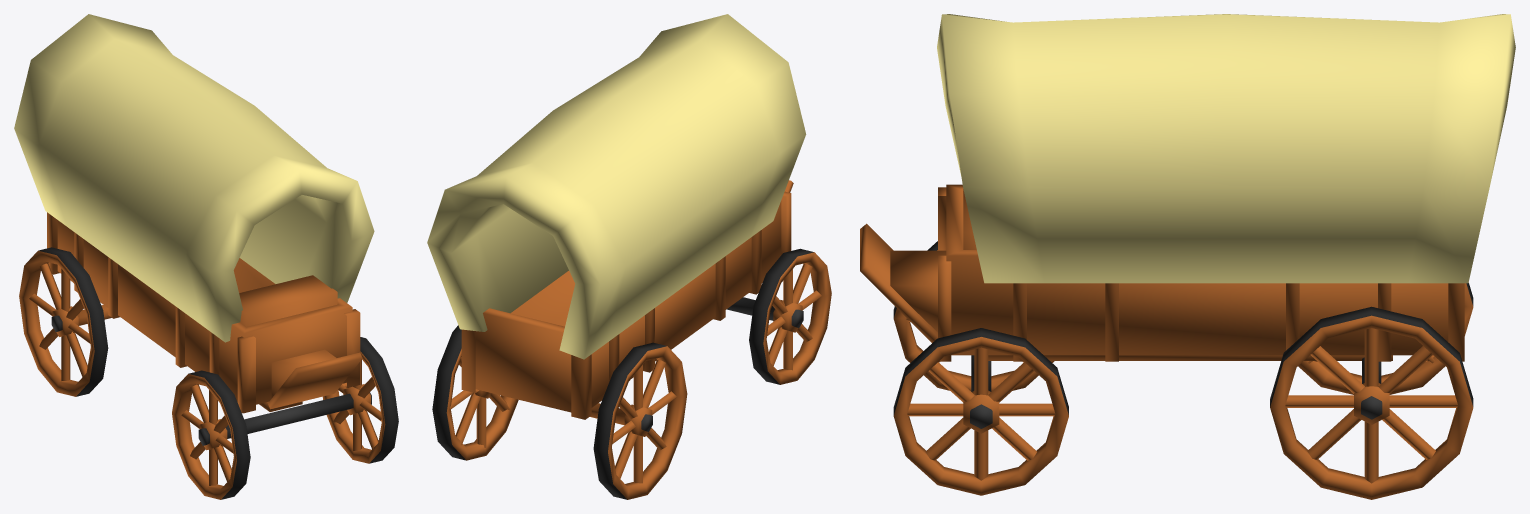
The model's file is Western_HorseWagon.fbx.
3 renders of one model, left to right at view 1: azimuth 30°, elevation 25°; view 2: azimuth 150°, elevation 25°; view 3: azimuth 270°, elevation 25°, orthographic. The views are drawn at different scales.
Parts seen in each view (by area): view 1: HorseWagon; view 2: HorseWagon; view 3: HorseWagon.
Boxes of the visible parts, <box> form: HorseWagon: <box>14,14,398,499</box>; HorseWagon: <box>427,14,831,499</box>; HorseWagon: <box>860,14,1515,499</box>.
Bounding box in the file's own units: 171 × 309 × 426.
1 material, 1 textured.
